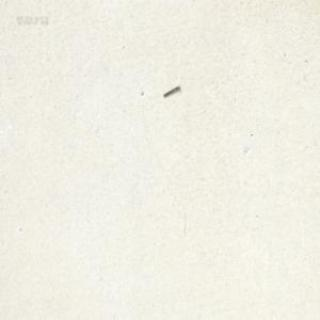Bolttrack_idkeyframe: (162, 82, 178, 96)
